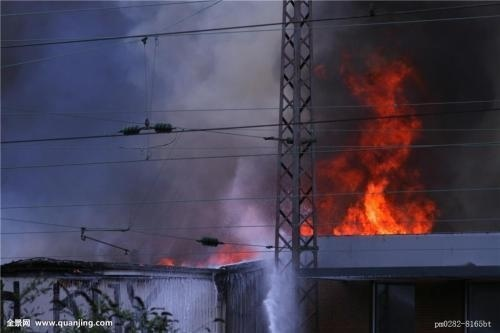fire: (313, 55, 439, 239)
